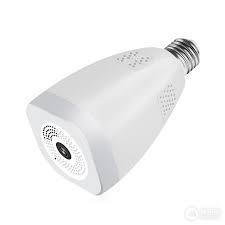tutu: (20, 31, 205, 198)
